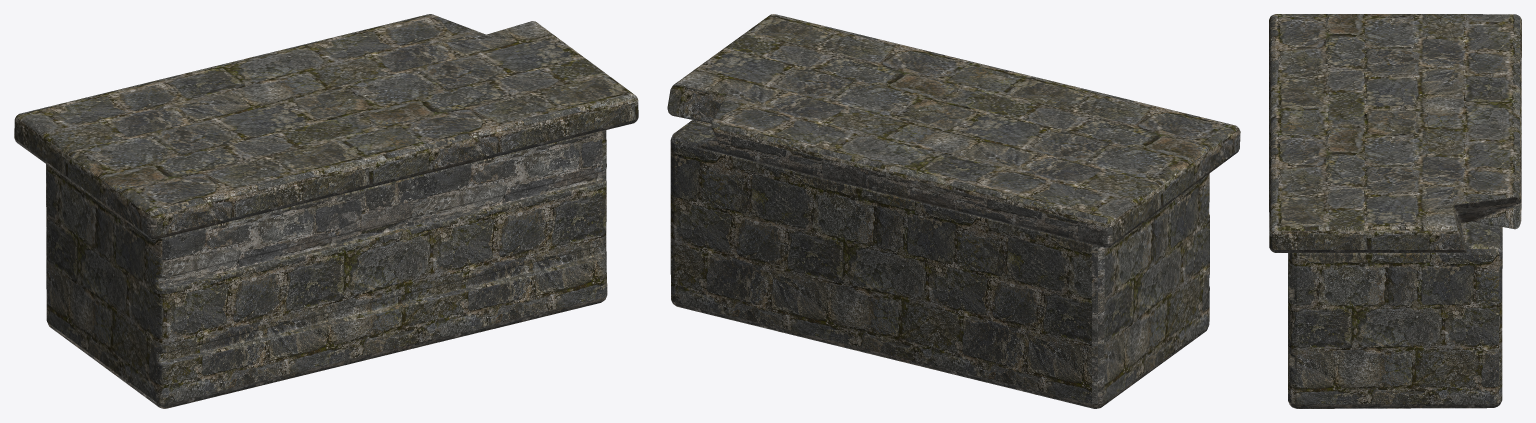
File: altar-v01.glb
3 views of the same model, side by side, from view 1: azimuth 30°, elevation 25°; view 2: azimuth 150°, elevation 25°; view 3: azimuth 270°, elevation 25° (orthographic). The views are drawn at different scales.
Parts seen in each view (by area): view 1: altar; view 2: altar; view 3: altar.
Boxes of the visible parts, x1,y1,x2,y2 form: altar: [14, 14, 638, 408]; altar: [667, 14, 1240, 408]; altar: [1269, 14, 1521, 408].
Size of the model in its own units: 2.4 by 0.9931 by 1.18.
2 materials, 2 textured.
